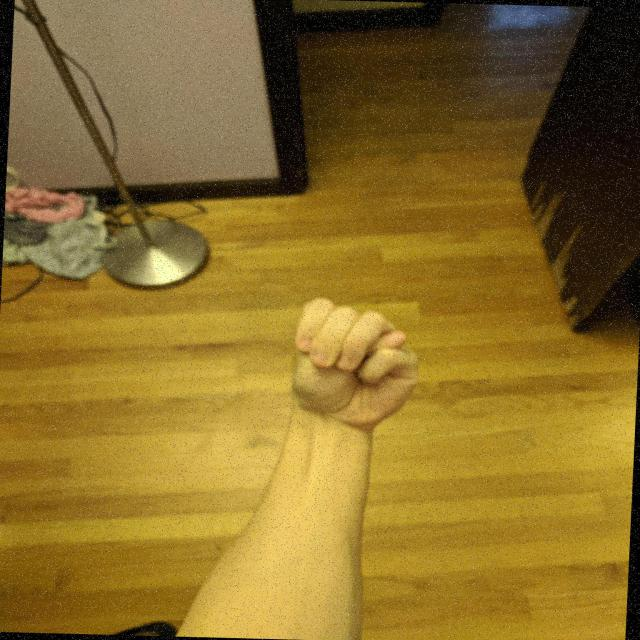M: (276, 293, 430, 434)
